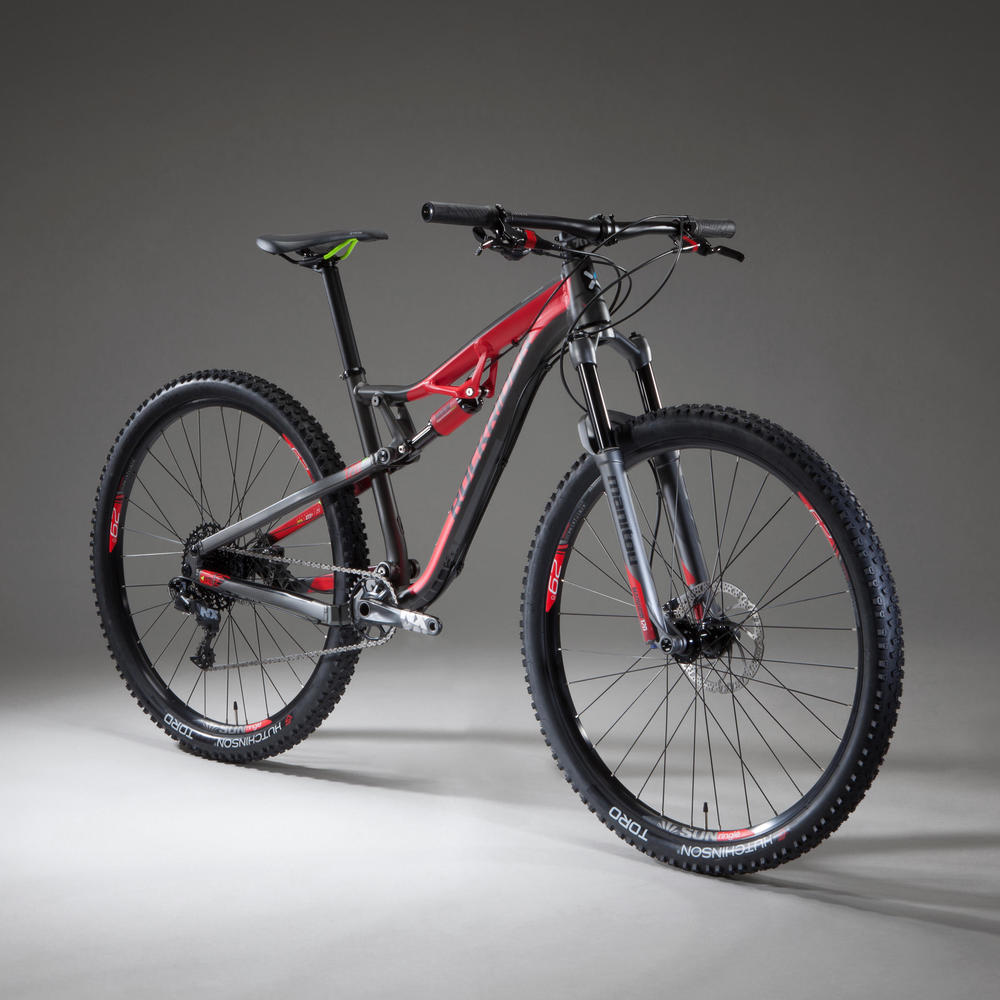RoadBike: (257, 534, 397, 732), (426, 519, 557, 703)
